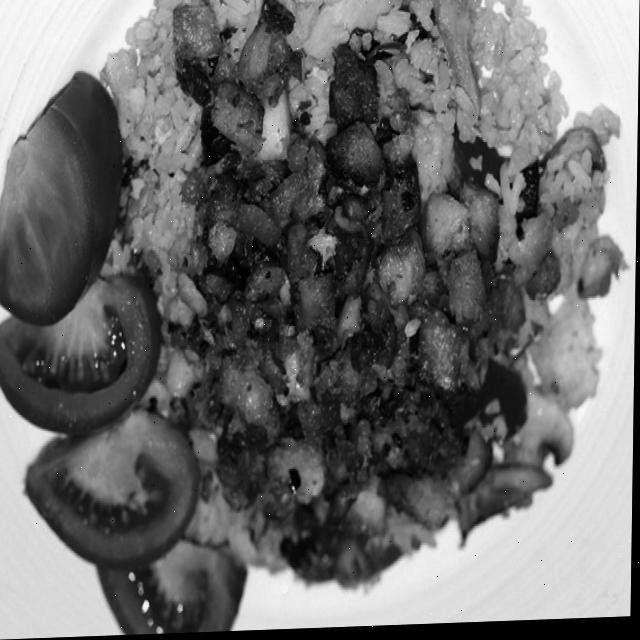米饭主食: (21, 0, 612, 633)
